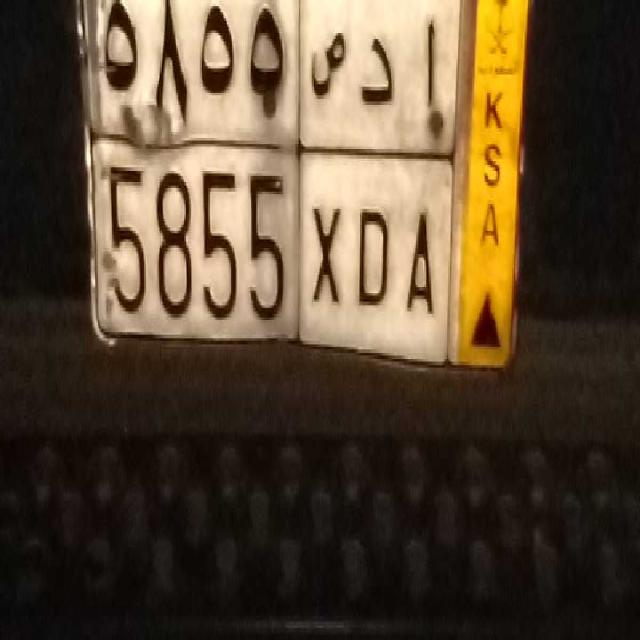license_plate: (92, 130, 446, 364)
